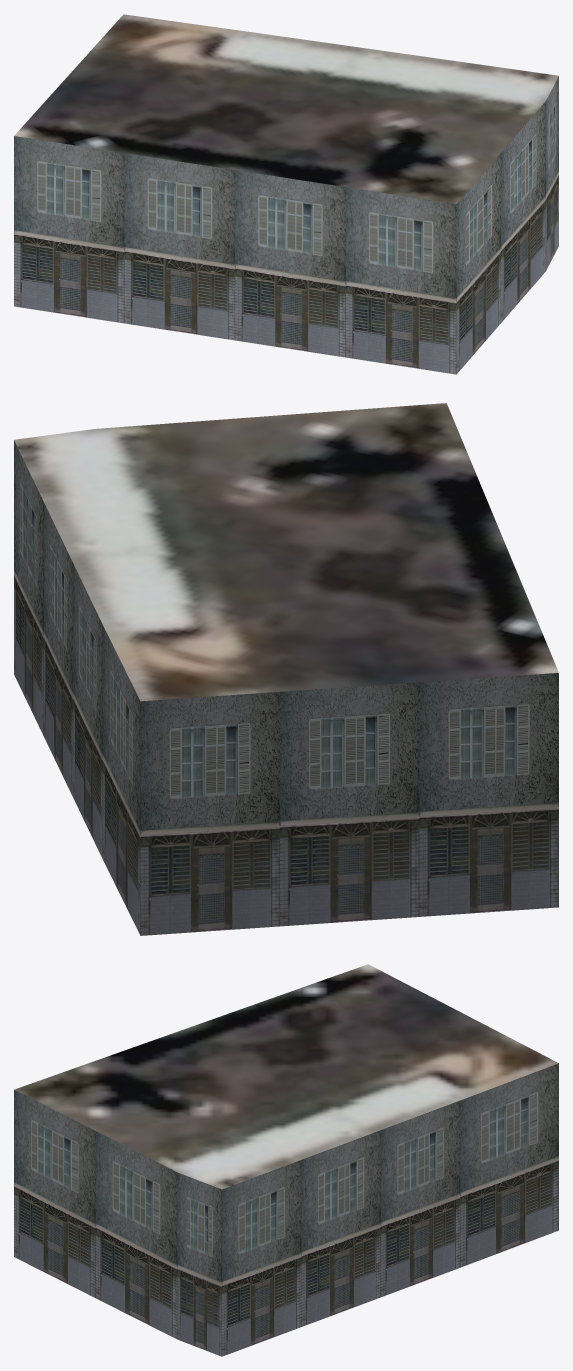
Rendered from T_1SXSC4P344.dae.
3 renders of one model, top to bottom at view 1: azimuth 30°, elevation 25°; view 2: azimuth 150°, elevation 25°; view 3: azimuth 270°, elevation 25°, orthographic. The views are drawn at different scales.
Parts seen in each view (by area): view 1: SketchUp (×7); view 2: SketchUp (×7); view 3: SketchUp (×9).
Boxes of the visible parts, box(x1,y1,x2,y2) form: SketchUp (×7): box(14, 14, 558, 374); SketchUp (×7): box(14, 403, 558, 935); SketchUp (×9): box(14, 964, 558, 1356).
Bounding box in the file's own units: 21.26 × 21.73 × 7.36.
3 materials, 3 textured.
